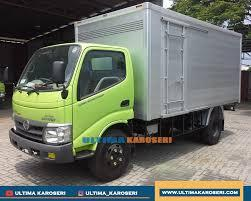truck: (1, 34, 148, 171)
